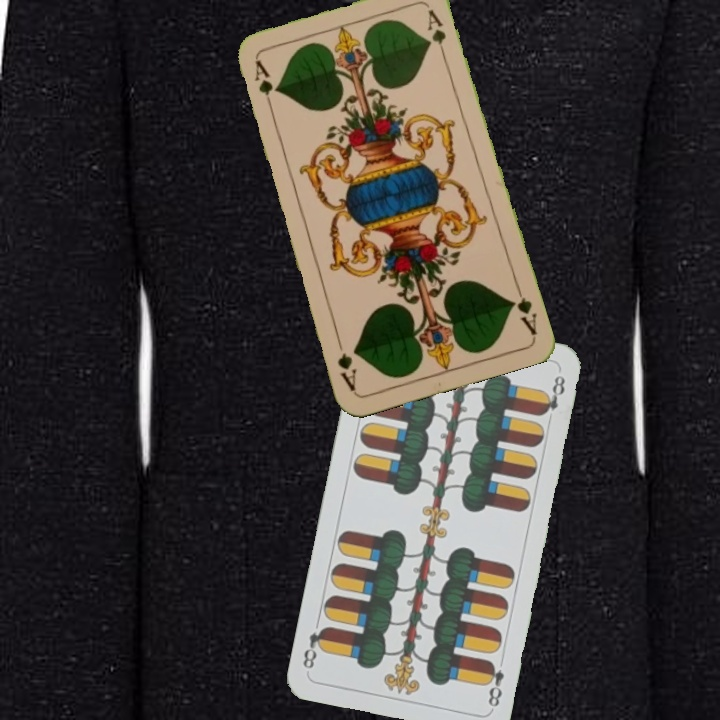E8: (481, 656, 507, 710)
GA: (506, 280, 540, 338), (250, 56, 276, 115)
